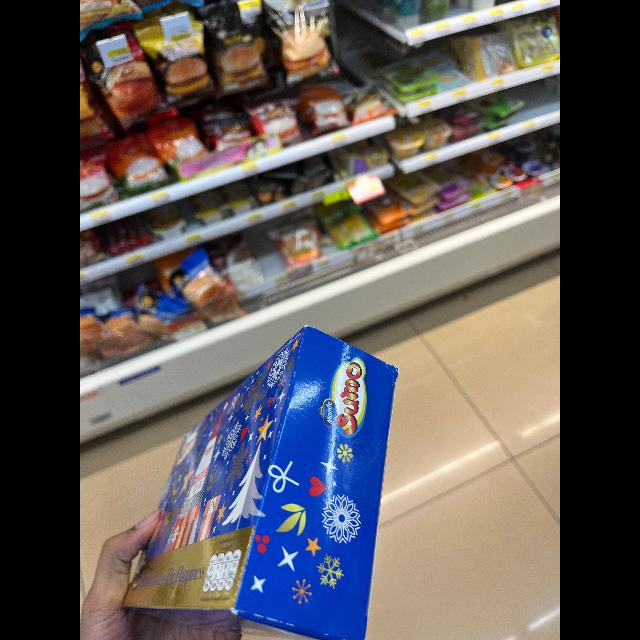cardboard_box: (118, 316, 418, 640)
